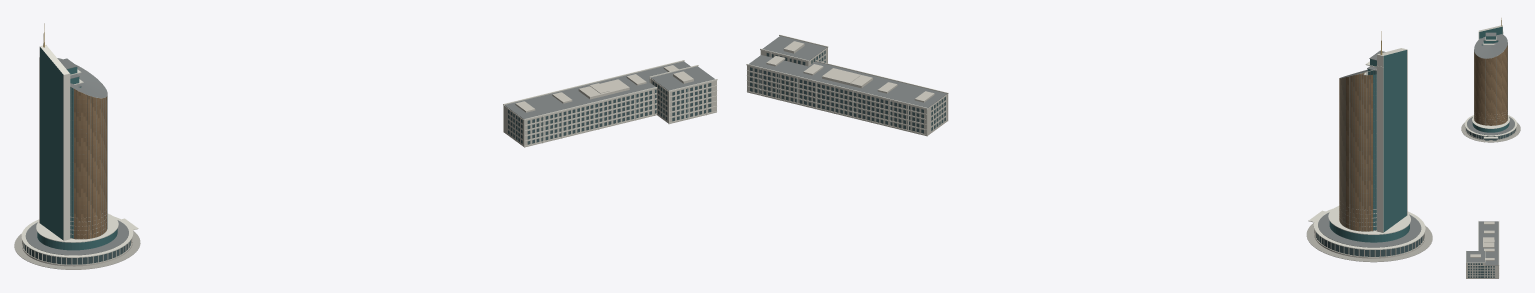
Rendered from transport-r1.glb.
3 renders of one model, left to right at view 1: azimuth 30°, elevation 25°; view 2: azimuth 150°, elevation 25°; view 3: azimuth 270°, elevation 25°, orthographic. The views are drawn at different scales.
Parts seen in each view (by area): view 1: Transport Limestone, Transport Teal glazing, Transport Coping, Transport Roof, Transport Podium glazing, Transport Mullions, Transport Bronze 2, Transport Bronze 1, Transport Bronze 3, Transport Bronze 4, Transport Bronze 5, Transport Bronze 0 (+1 smaller); view 2: Transport Limestone, Transport Teal glazing, Transport Coping, Transport Roof, Transport Podium glazing, Transport Mullions, Transport Bronze 2, Transport Bronze 0, Transport Bronze 1, Transport Bronze 3, Transport Bronze 5, Transport Bronze 4 (+1 smaller); view 3: Transport Roof, Transport Limestone, Transport Bronze 2, Transport Bronze 1, Transport Bronze 0, Transport Bronze 3, Transport Bronze 4, Transport Bronze 5, Transport Coping, Transport Podium glazing, Transport Teal glazing, Transport Mullions (+1 smaller).
Boxes of the visible parts, x1=… form: Transport Limestone: x1=22, y1=65, x2=716, y2=266; Transport Teal glazing: x1=37, y1=47, x2=117, y2=250; Transport Coping: x1=21, y1=45, x2=717, y2=257; Transport Roof: x1=25, y1=58, x2=714, y2=255; Transport Podium glazing: x1=23, y1=81, x2=711, y2=264; Transport Mullions: x1=70, y1=87, x2=107, y2=238; Transport Bronze 2: x1=74, y1=97, x2=106, y2=239; Transport Bronze 1: x1=74, y1=96, x2=106, y2=239; Transport Bronze 3: x1=74, y1=95, x2=106, y2=238; Transport Bronze 4: x1=74, y1=91, x2=106, y2=238; Transport Bronze 5: x1=74, y1=89, x2=106, y2=237; Transport Bronze 0: x1=74, y1=90, x2=106, y2=239; Transport Limestone: x1=747, y1=41, x2=1424, y2=258; Transport Teal glazing: x1=1329, y1=50, x2=1409, y2=242; Transport Coping: x1=746, y1=34, x2=1425, y2=249; Transport Roof: x1=749, y1=36, x2=1421, y2=247; Transport Podium glazing: x1=750, y1=50, x2=1423, y2=256; Transport Mullions: x1=1340, y1=69, x2=1376, y2=231; Transport Bronze 2: x1=1339, y1=73, x2=1372, y2=231; Transport Bronze 0: x1=1339, y1=75, x2=1372, y2=231; Transport Bronze 1: x1=1339, y1=72, x2=1372, y2=231; Transport Bronze 3: x1=1339, y1=74, x2=1372, y2=230; Transport Bronze 5: x1=1339, y1=75, x2=1372, y2=231; Transport Bronze 4: x1=1339, y1=74, x2=1372, y2=231; Transport Roof: x1=1466, y1=32, x2=1514, y2=265; Transport Limestone: x1=1465, y1=127, x2=1516, y2=278; Transport Bronze 2: x1=1474, y1=49, x2=1507, y2=125; Transport Bronze 1: x1=1474, y1=45, x2=1507, y2=125; Transport Bronze 0: x1=1474, y1=46, x2=1507, y2=125; Transport Bronze 3: x1=1474, y1=48, x2=1507, y2=125; Transport Bronze 4: x1=1474, y1=47, x2=1507, y2=125; Transport Bronze 5: x1=1474, y1=47, x2=1507, y2=125; Transport Coping: x1=1464, y1=25, x2=1517, y2=277; Transport Podium glazing: x1=1466, y1=128, x2=1515, y2=277; Transport Teal glazing: x1=1472, y1=26, x2=1509, y2=132; Transport Mullions: x1=1474, y1=42, x2=1507, y2=125.
Bounding box in the file's own units: 506 × 158 × 78.
